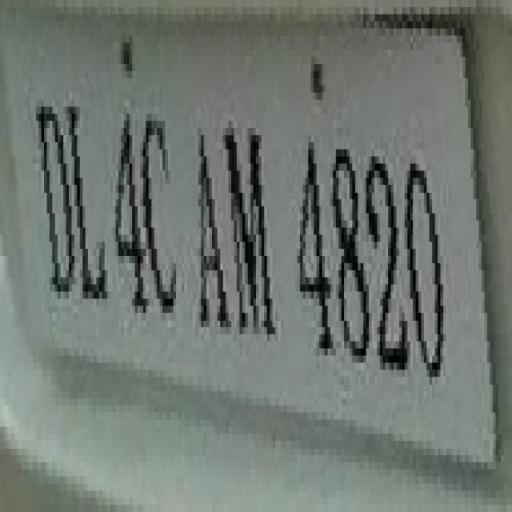number plate: (0, 28, 490, 398)
